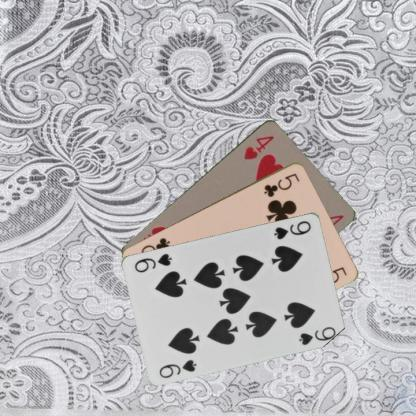4h: (241, 132, 276, 161)
5c: (261, 170, 301, 198)
9s: (271, 218, 313, 240), (157, 357, 198, 379)
